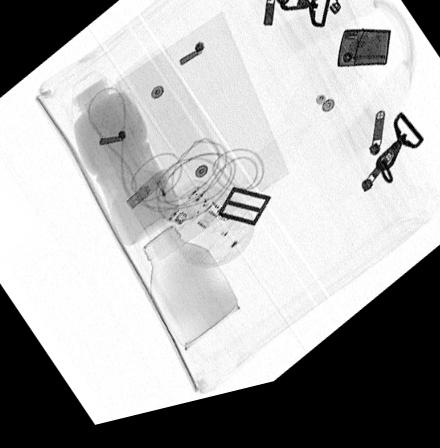Lighter: (336, 46, 390, 85)
